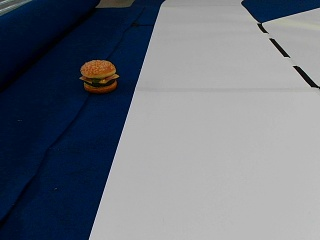burger: (80, 58, 118, 93)
